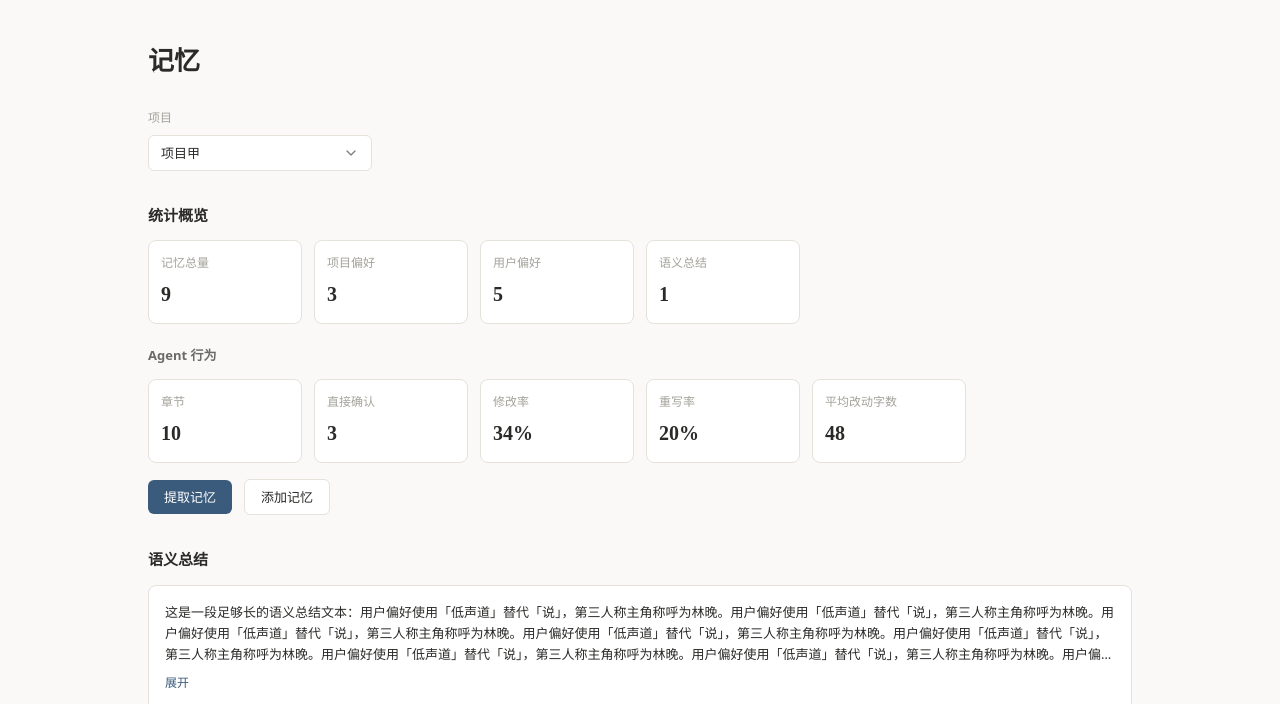
Test case: 记忆页 — 挂载加载与语义总结展示 › #803 长文总结渲染展开/收起按钮；点击展开 → 收起 → 折叠
Step 1. Click the button with test id "memory-summary-expand" → (177, 683), box [165, 673, 189, 693]
(page scrolled)
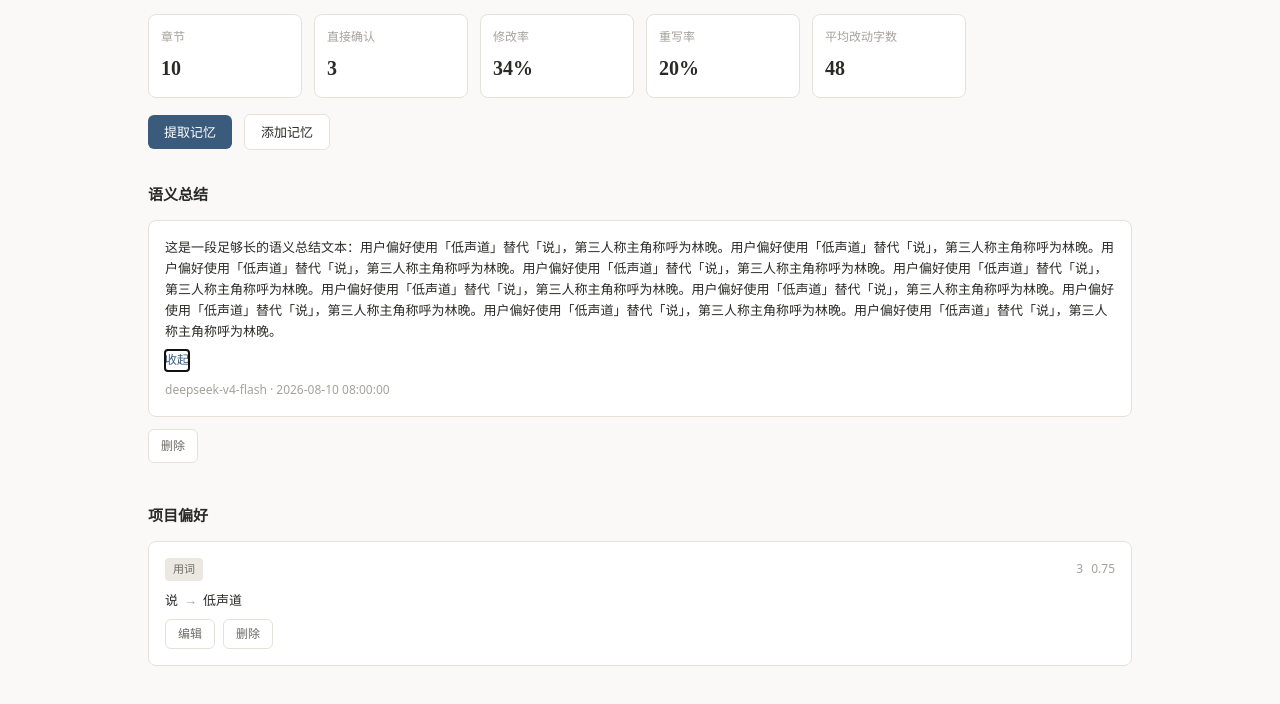
Expected: the button with test id "memory-summary-expand" reads "收起"
Step 2. Click the button with test id "memory-summary-expand" → (177, 360), box [165, 350, 189, 371]
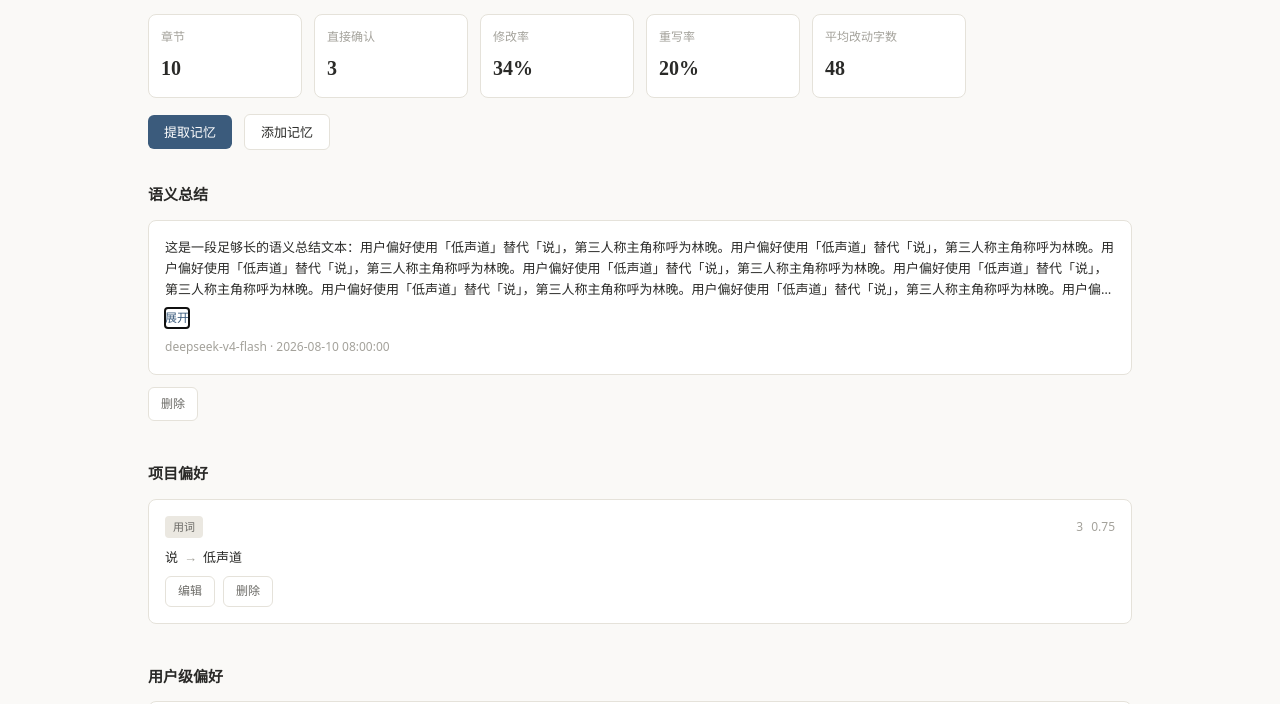
Expected: the button with test id "memory-summary-expand" reads "展开", [165, 308, 189, 328]
